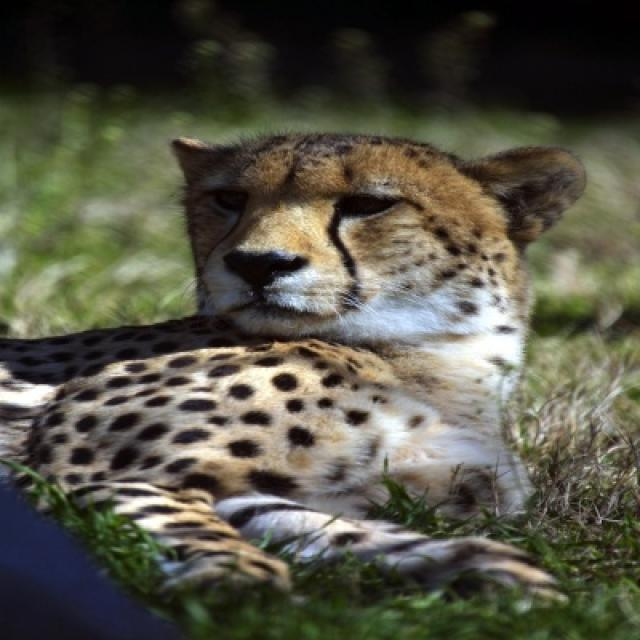Cheetah: (0, 134, 589, 594)
